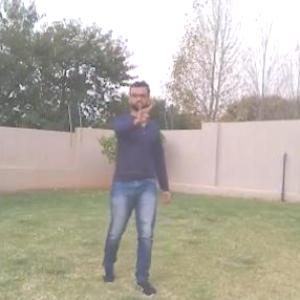takeoff-hand: (129, 94, 153, 123)
